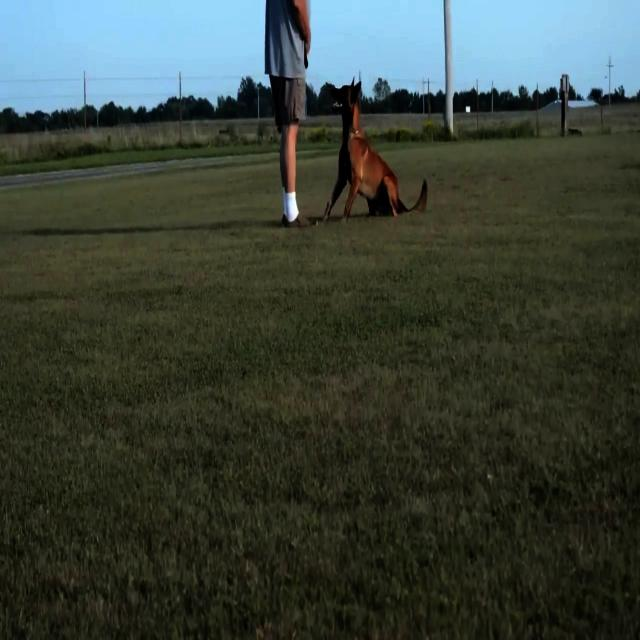Unleashed_Dog: (283, 76, 428, 215)
